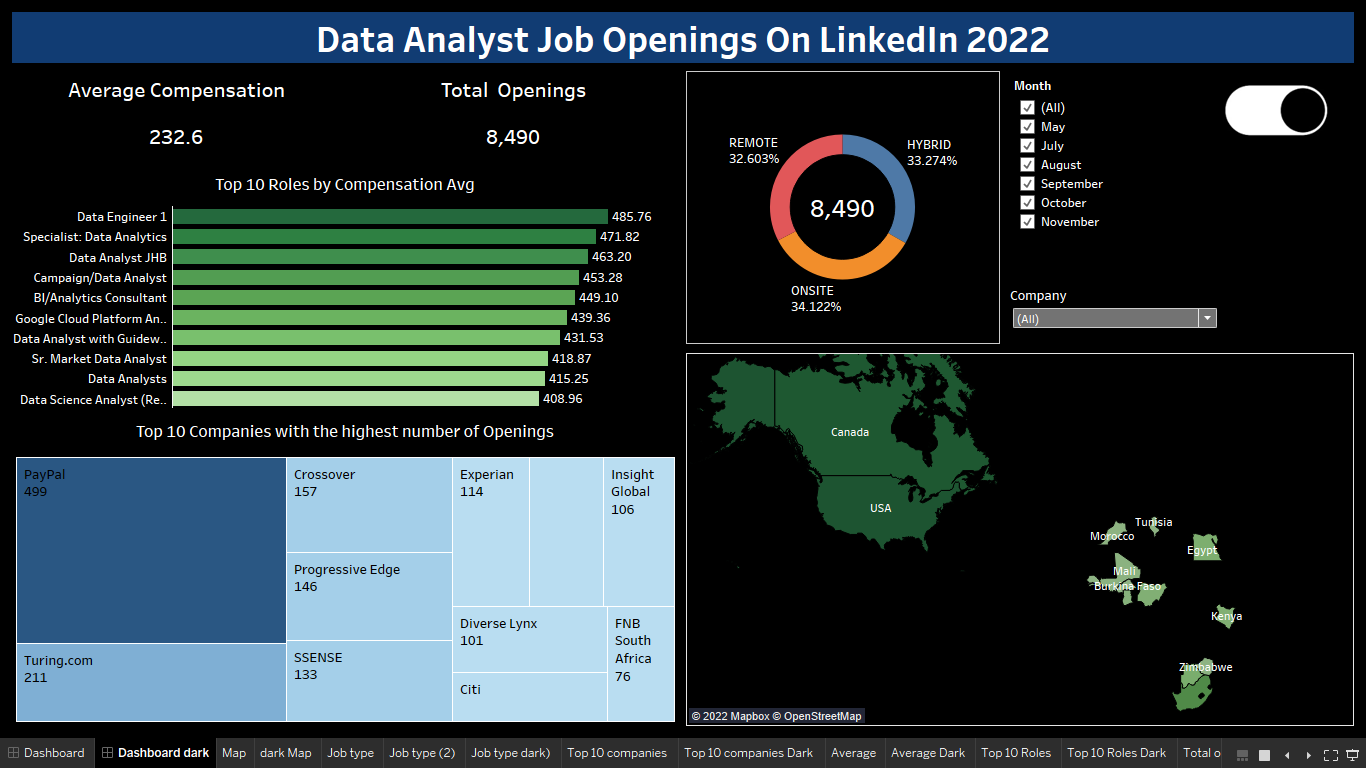

Layout of this report page (visuals, bound fields, positions):
{"tool":"tableau","page":{"name":"Dashboard dark","canvas":[1000,1000],"units":"permille","ordinal":1},"visuals":[{"type":"text","box":[7.3,12.7,985.4,80.1]},{"type":"worksheet","title":"Average Dark","mark":"Automatic","box":[7.3,92.8,245.9,131.1]},{"type":"worksheet","title":"Total openings dark","mark":"Automatic","box":[253.2,92.8,246.1,131.1]},{"type":"worksheet","title":"Job type dark)","mark":"Pie","cols":["Calculation_203787926448721927","Calculation_203787926448721927"],"box":[499.4,92.8,235.1,379.8]},{"type":"blank","box":[734.5,92.8,258.2,379.8]},{"type":"filter","title":"Job type dark)","param":"[federated.0m270o21ol0wm31gh422y0igy4s7].[none:Calculation_203787926445420548:nk","box":[742,104.4,153.7,261.1]},{"type":"worksheet","title":"Top 10 Roles Dark","mark":"Automatic","rows":["title"],"cols":["Compensation"],"box":[7.3,223.9,492.1,334.2]},{"type":"filter","title":"Top 10 companies Dark","param":"[federated.0m270o21ol0wm31gh422y0igy4s7].[none:company:nk]","box":[739.2,387.7,153.7,82.3]},{"type":"worksheet","title":"dark Map","mark":"Automatic","box":[499.4,472.6,493.3,514.8]},{"type":"worksheet","title":"Top 10 companies Dark","mark":"Automatic","box":[7.3,558.1,492.1,429.3]}]}

Visuals, with their boxes on the dashboard's canvas, which has no fixed pixel size, in thousandths of its width and height (x1, y1, x2, y2). These are canvas units, not pixel positions in the 1366x768 screenshot, which may show the page scaled, cropped or inside an application window:
text: x1=7, y1=13, x2=993, y2=93
"Average Dark" worksheet: x1=7, y1=93, x2=253, y2=224
"Total openings dark" worksheet: x1=253, y1=93, x2=499, y2=224
"Job type dark)" worksheet (Pie marks): x1=499, y1=93, x2=734, y2=473
blank: x1=734, y1=93, x2=993, y2=473
"Job type dark)" filter: x1=742, y1=104, x2=896, y2=366
"Top 10 Roles Dark" worksheet: x1=7, y1=224, x2=499, y2=558
"Top 10 companies Dark" filter: x1=739, y1=388, x2=893, y2=470
"dark Map" worksheet: x1=499, y1=473, x2=993, y2=987
"Top 10 companies Dark" worksheet: x1=7, y1=558, x2=499, y2=987
